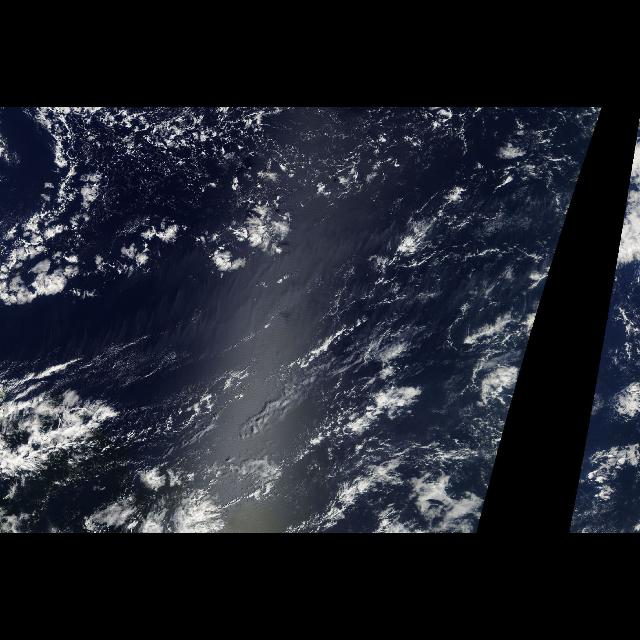Gravel: (25, 108, 411, 215)
